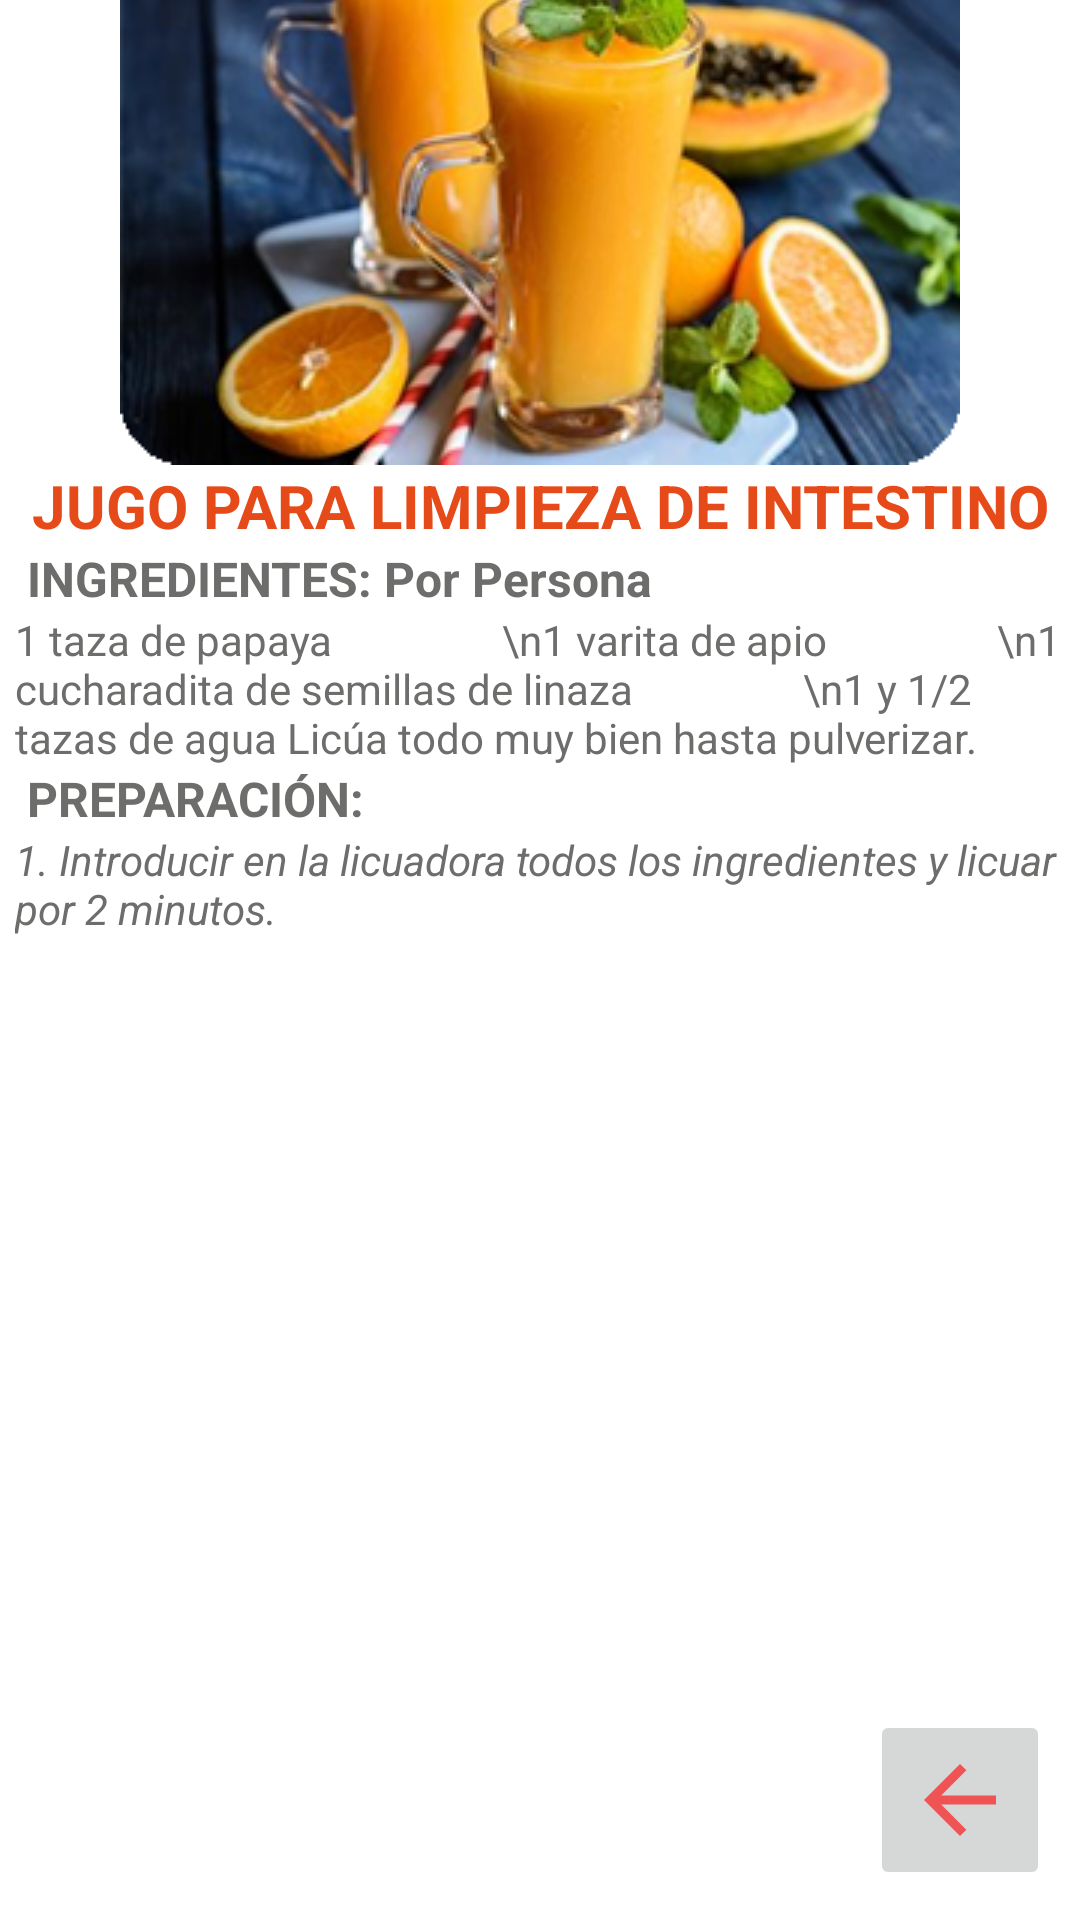

Named icons in this screenshot (1080*1920) and their bounding boxes, bbox(x1, y1, x2, y2):
arrow back: bbox(882, 1728, 1038, 1872)
